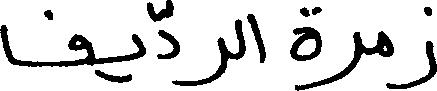X: (0, 5, 92, 71), (394, 2, 436, 90), (290, 2, 322, 90), (181, 32, 227, 90), (324, 27, 360, 89), (159, 0, 179, 89), (248, 9, 265, 67), (378, 26, 392, 90), (131, 29, 144, 84), (235, 14, 243, 64)
